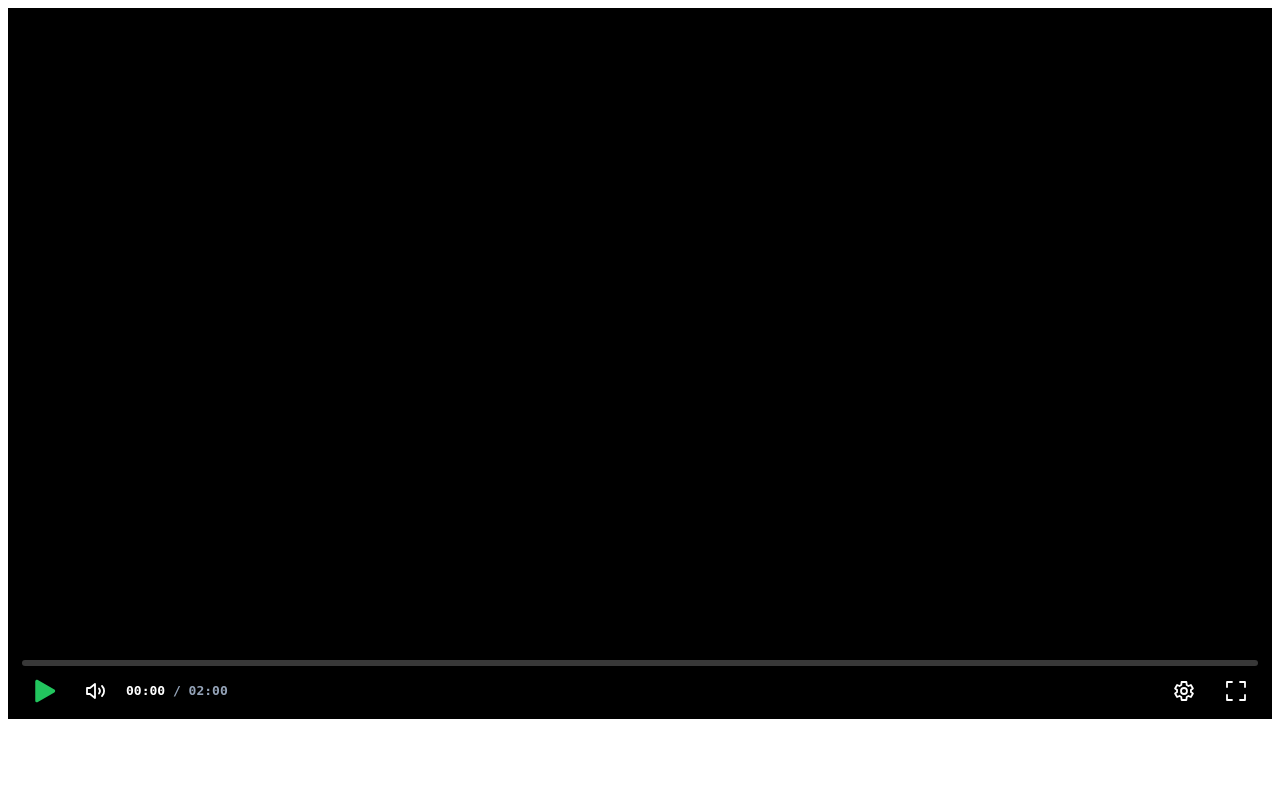
Test case: LibmediaPlayer › shows and copies the complete active URL without masking query parameters
The image size is (1280, 800).
Right-click the element with class "libmedia-player-core__surface" at (640, 364), box left=8, top=8, right=1272, bottom=719
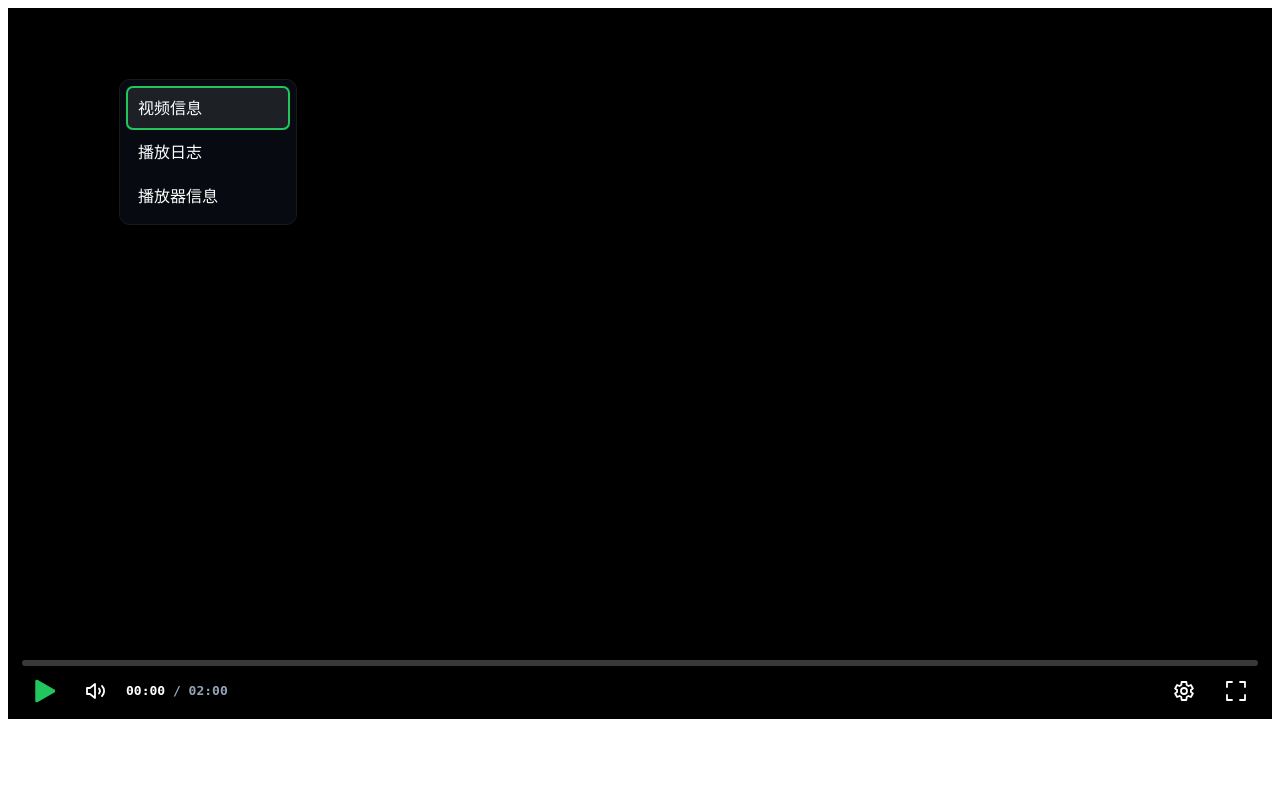
Click the menu item "视频信息" at (208, 108), box left=126, top=86, right=290, bottom=130
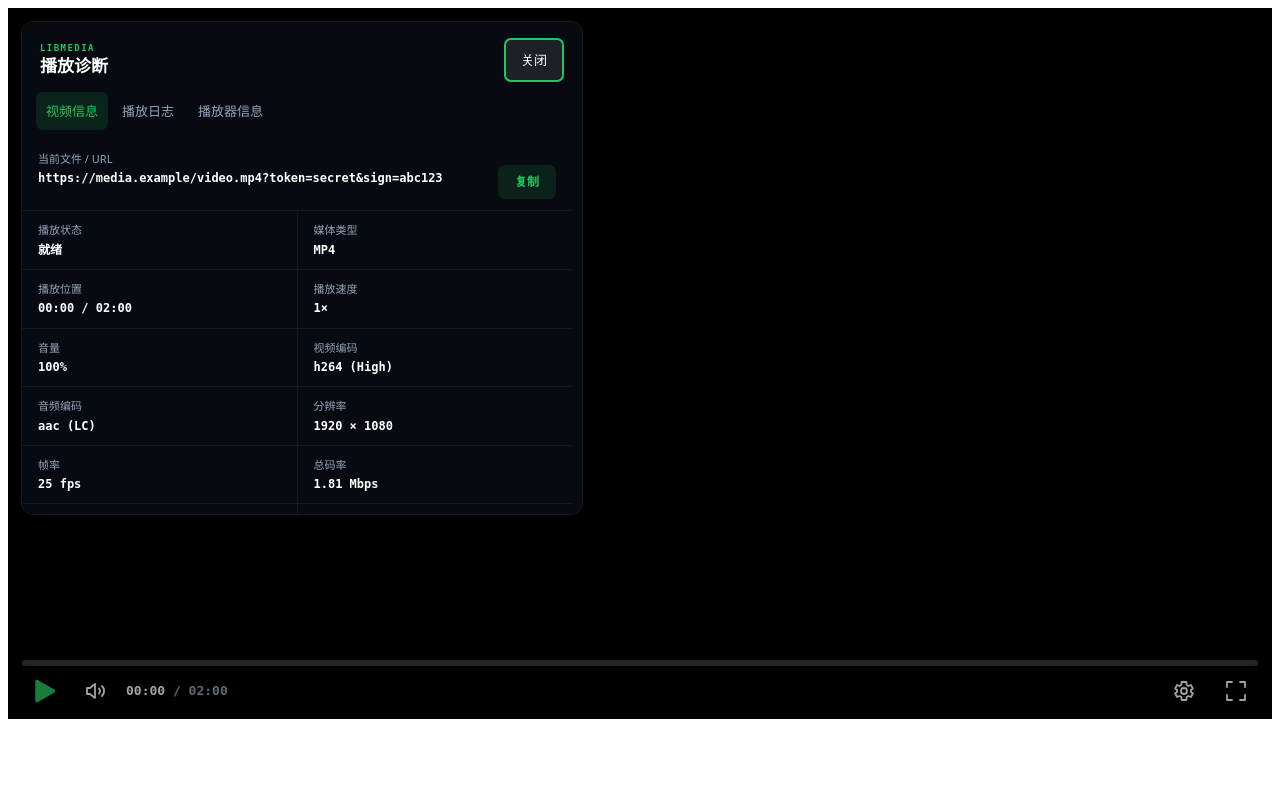
Result: the dialog with class "libmedia-diagnostics" shows "https://media.example/video.mp4?token=secret&sign=abc123" at left=38, top=171, right=443, bottom=185
Click the button with aria-label "复制当前文件或 URL" at (527, 182), box left=498, top=165, right=556, bottom=199
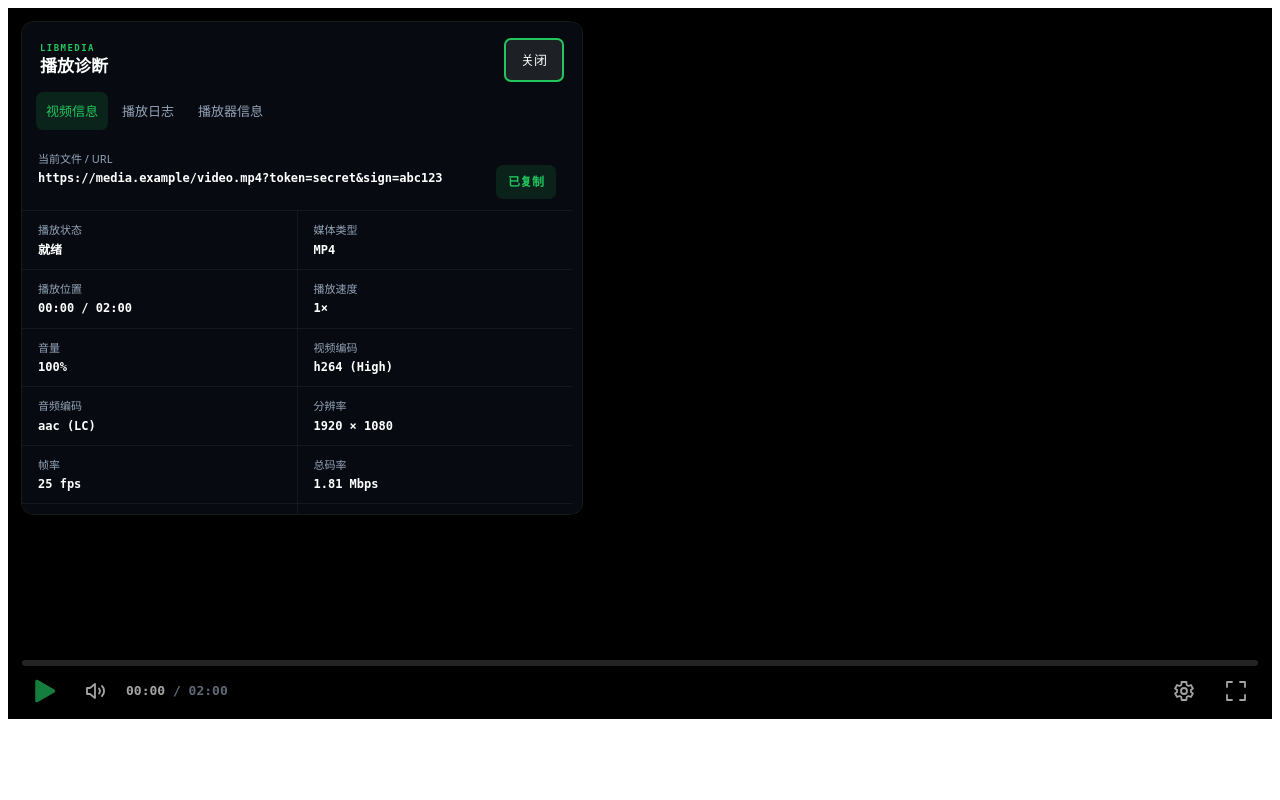
Result: the dialog with class "libmedia-diagnostics" shows "已复制" at left=496, top=165, right=556, bottom=199
